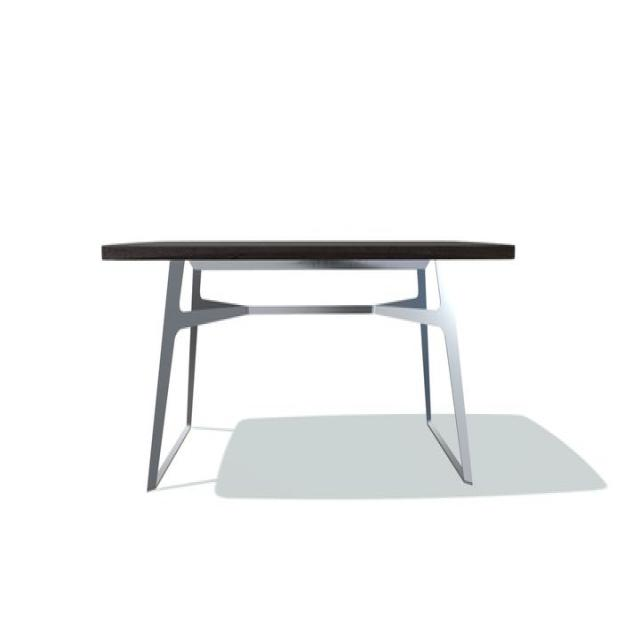table: (102, 240, 518, 493)
